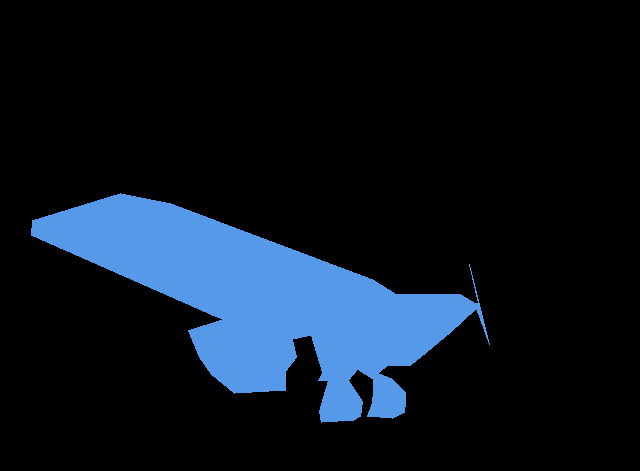Airplane: (31, 193, 490, 422)
